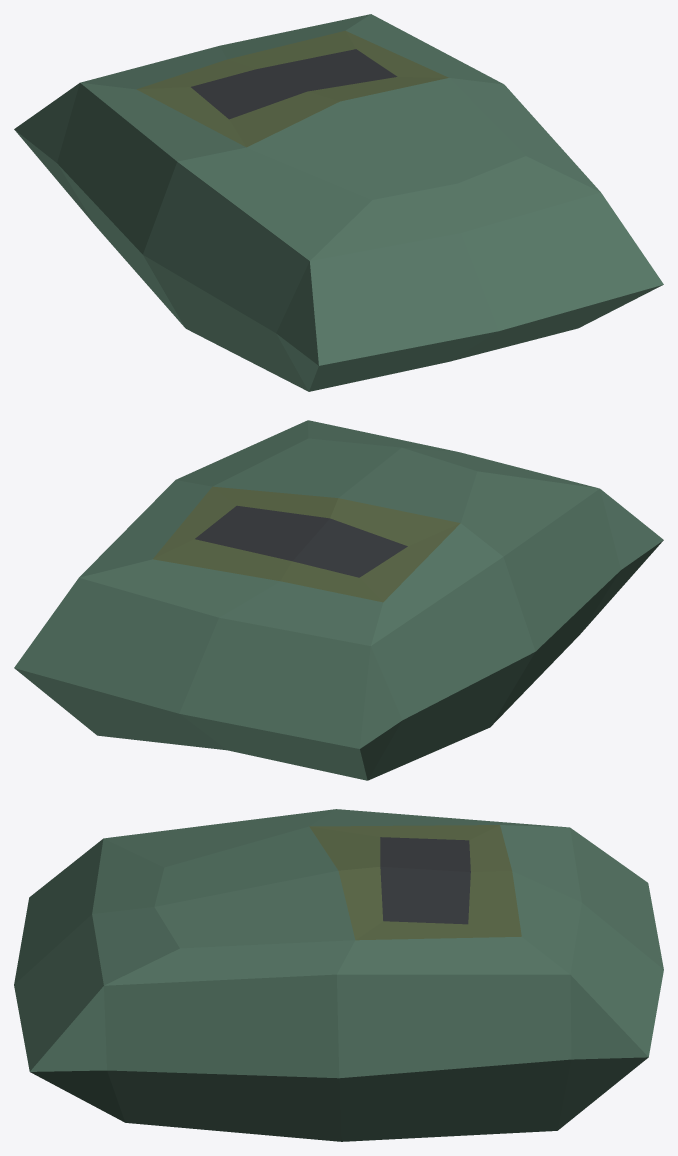
Rendered from SM_Prop_Snack_05.fbx.
3 renders of one model, top to bottom at view 1: azimuth 30°, elevation 25°; view 2: azimuth 150°, elevation 25°; view 3: azimuth 270°, elevation 25°, orthographic.
Visible parts, largest first — view 1: SM_Prop_Snack_05; view 2: SM_Prop_Snack_05; view 3: SM_Prop_Snack_05.
Part boxes in pixels (x1,y1,x2,y2): SM_Prop_Snack_05: [14, 14, 663, 391]; SM_Prop_Snack_05: [14, 420, 663, 780]; SM_Prop_Snack_05: [14, 809, 663, 1141].
Size of the model in its own units: 14.78 by 7.99 by 20.85.
